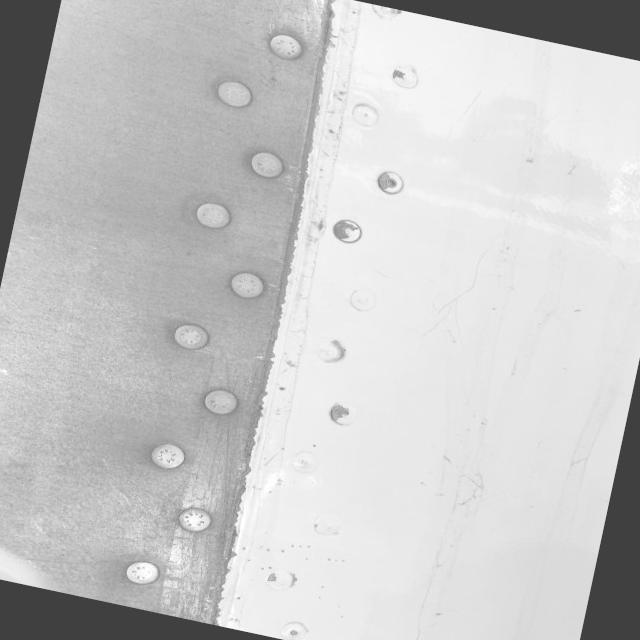crack: (426, 248, 496, 364), (450, 466, 506, 526)
